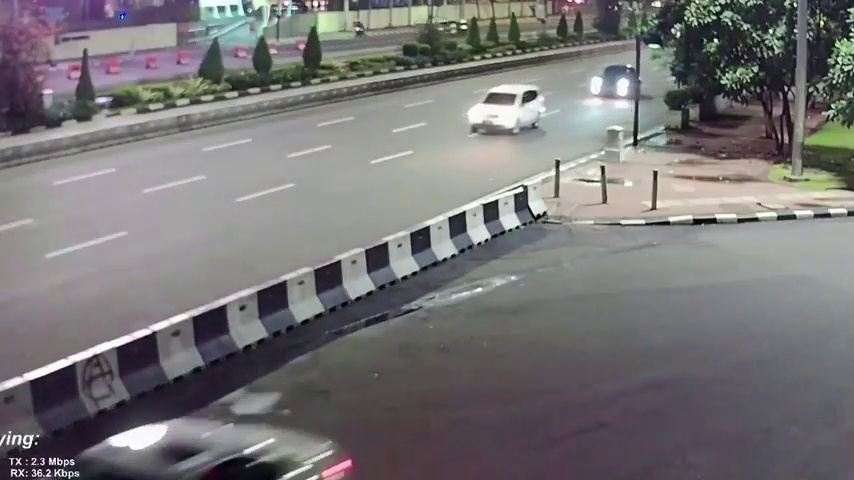car: (466, 82, 543, 137), (592, 61, 638, 99)
